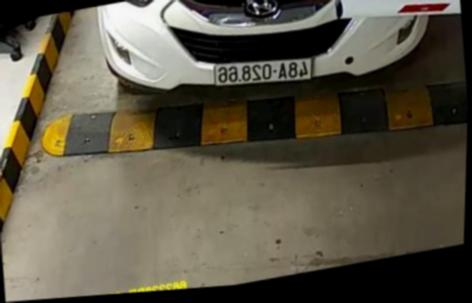License_Plate: (210, 39, 321, 94)
